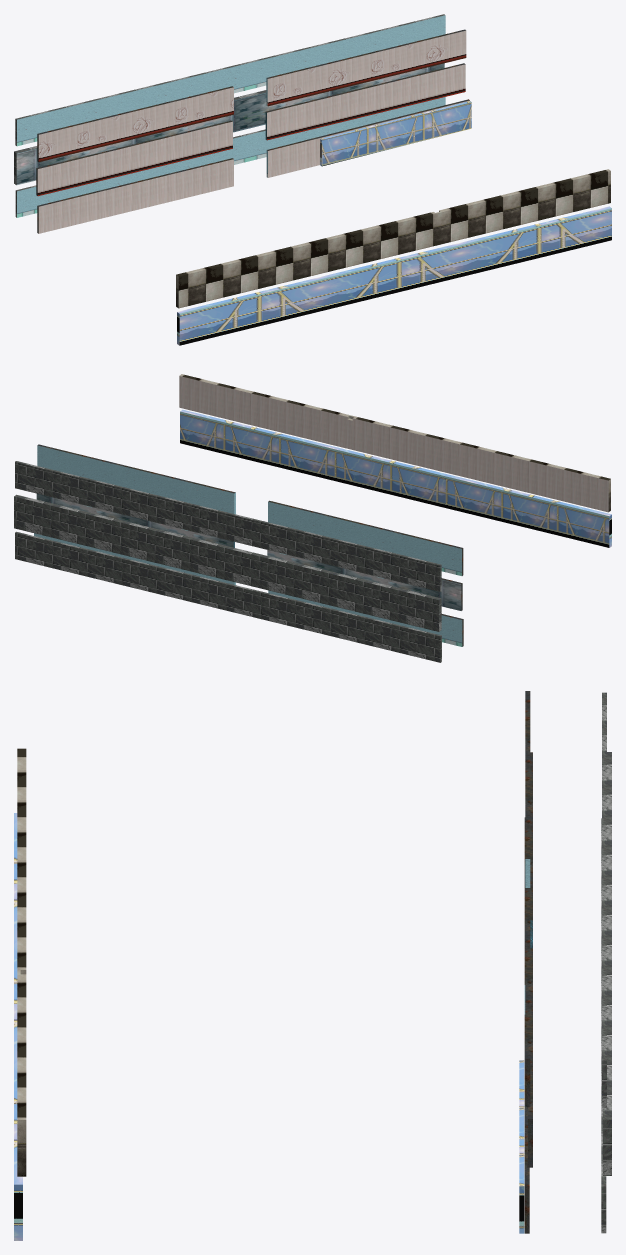
File: Corr1.glb
3 views of the same model, one above another, from view 1: azimuth 30°, elevation 25°; view 2: azimuth 150°, elevation 25°; view 3: azimuth 270°, elevation 25° (orthographic). The views are drawn at different scales.
Visible parts, largest first — view 1: Corr1; view 2: Corr1; view 3: Corr1.
Boxes of the visible parts, left/top/right/bottom form: Corr1: left=14, top=14, right=611, bottom=345; Corr1: left=14, top=374, right=611, bottom=662; Corr1: left=14, top=691, right=611, bottom=1240.
Size of the model in its own units: 1595 by 362 by 1077.
9 materials, 9 textured.
